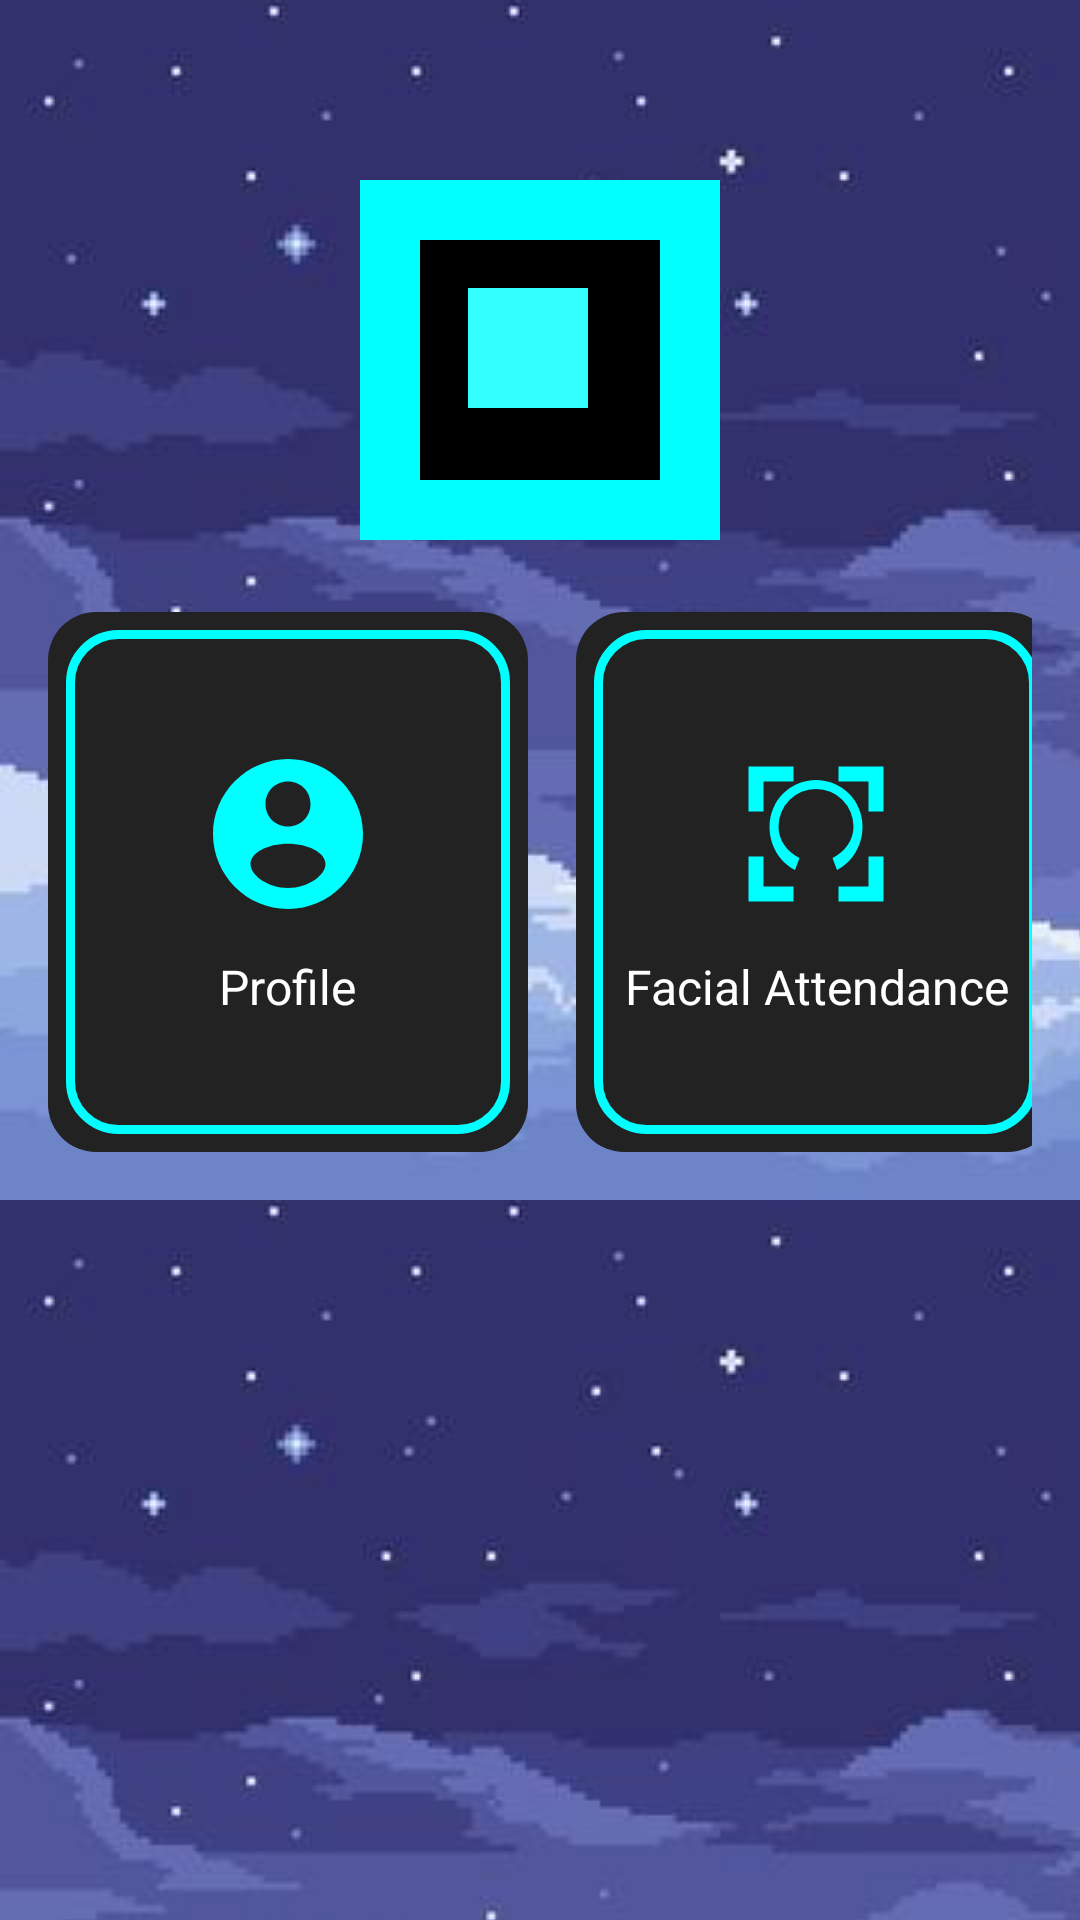

Point at icon controls on the screen. Image size 1080 × 1920, points as (x,y).
face scan: (816,834)
